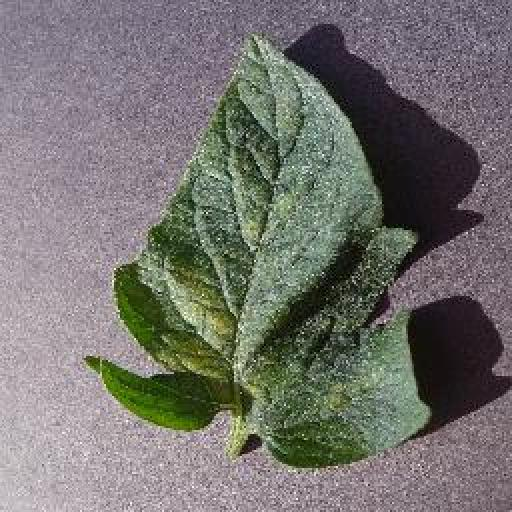Spider Mites: (83, 32, 433, 468)
